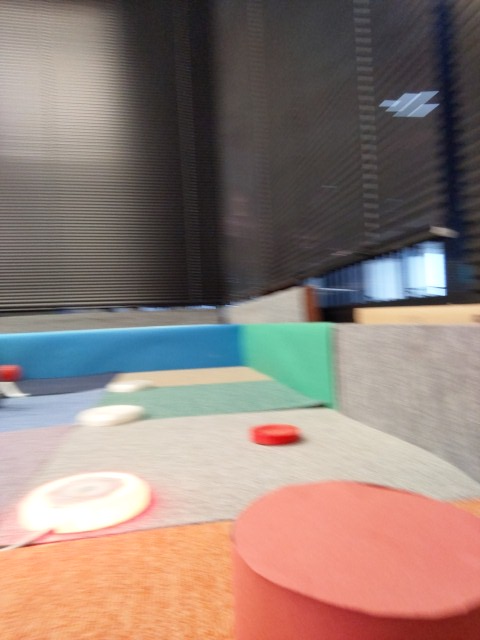o: (72, 400, 148, 428), (105, 376, 154, 396)
r: (17, 470, 155, 535)
